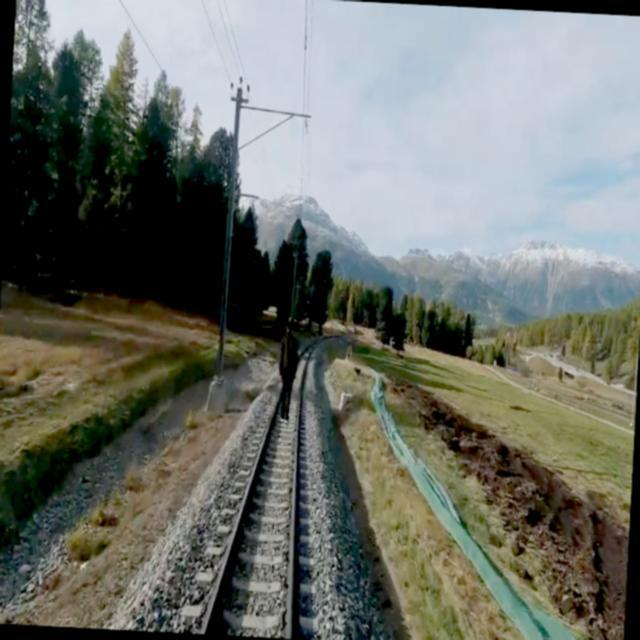danger: (269, 328, 307, 425)
rail: (152, 331, 345, 636)
